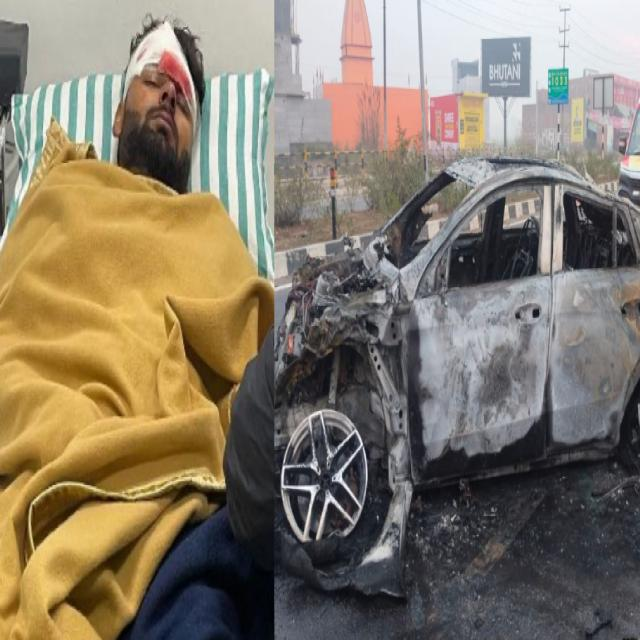accident: (275, 158, 640, 595)
